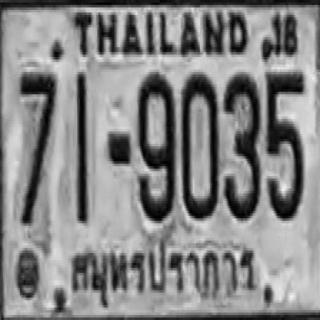N00: (180, 72, 217, 218)
N01: (75, 71, 88, 222)
N03: (224, 72, 259, 218)
N05: (265, 68, 304, 217)
N07: (17, 69, 56, 223)
N09: (136, 71, 174, 219)
P57: (63, 238, 263, 303)
